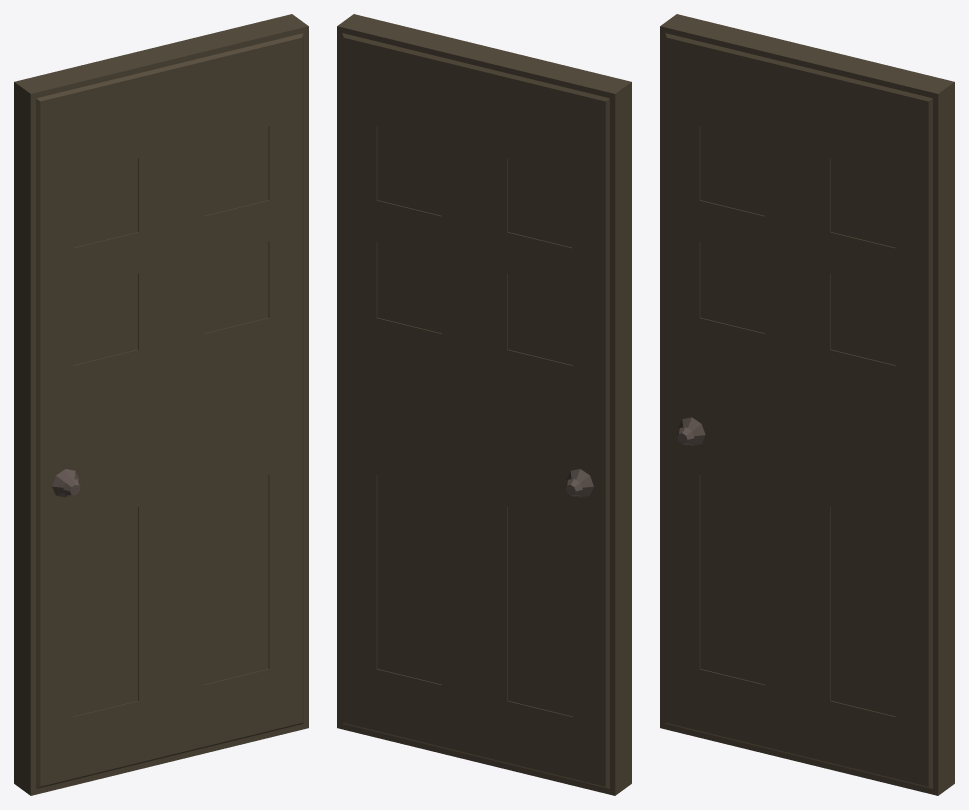
File: Door_2.glb
The picture shows the model from 3 angles, left to right: view 1: azimuth 30°, elevation 25°; view 2: azimuth 150°, elevation 25°; view 3: azimuth 330°, elevation 25°; orthographic projection.
Parts seen in each view (by area): view 1: Door_2; view 2: Door_2; view 3: Door_2.
Boxes of the visible parts, bbox=[...] form: Door_2: bbox=[14, 14, 308, 795]; Door_2: bbox=[337, 14, 631, 795]; Door_2: bbox=[660, 14, 954, 795].
Size of the model in its own units: 0.522 by 1.26 by 0.1263.
